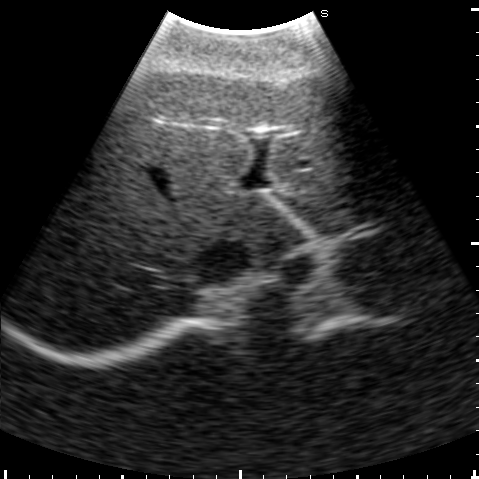IVC: (191, 239, 252, 286)
S1: (234, 200, 304, 263)
S2: (269, 181, 414, 234)
S3: (255, 64, 406, 207)
